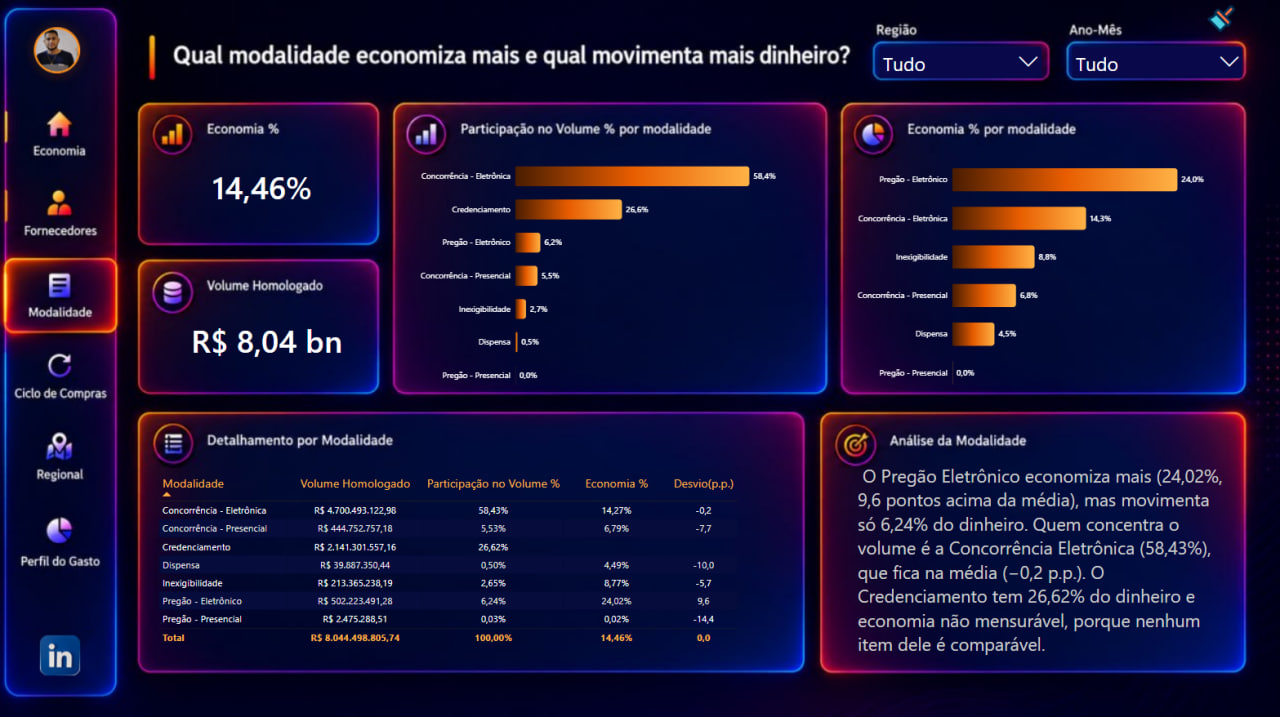

What the dashboard file says about the page in this screenshot:
{"tool":"powerbi","page":{"name":"Modalidade","canvas":[1920,1080],"ordinal":3},"visuals":[{"type":"cardVisual","fields":{"Data":["Medidas.P1 Economia %"]},"box":[306.3,195.2,260.3,165.1],"z":0},{"type":"textbox","box":[1286.6,692.4,557.9,300.9],"z":1000},{"type":"deneb7E15AEF80B9E4D4F8E12924291ECE89A","title":"Volume Homologado","fields":{"dataset":["dim_modalidade.nome_modalidade","Medidas.P1 Economia %"]},"box":[1261.4,218.1,606,388],"z":2000},{"type":"deneb7E15AEF80B9E4D4F8E12924291ECE89A","title":"Volume Homologado","fields":{"dataset":["dim_modalidade.nome_modalidade","Medidas.P3 Participação no Volume %"]},"box":[609.5,217.5,625.4,388.9],"z":3000},{"type":"cardVisual","fields":{"Data":["Medidas.P1 Volume Homologado"]},"box":[275,436.1,291.7,144.4],"z":4000},{"type":"tableEx","fields":{"Values":["dim_modalidade.nome_modalidade","Medidas.P1 Volume Homologado","Medidas.P3 Participação no Volume %","Medidas.P1 Economia %","Medidas.P3 Deságio vs Média Geral (p.p.)"]},"box":[225.4,692.1,992.1,323.8],"z":5000},{"type":"slicer","fields":{"Values":["Calendario.Ano-Mês"]},"box":[1601.4,65.3,265.3,54.2],"z":6000},{"type":"slicer","title":"região","fields":{"Values":["dim_localidade.regiao"]},"box":[1312.5,65.3,252.8,54.2],"z":7000},{"type":"image","title":"Limpar Filtro modali","box":[1793.1,0,73,55.6],"z":8000},{"type":"shape","title":"linkedin","box":[50,936.1,88.9,79.2],"z":8001},{"type":"shape","title":"1_fornecedores","box":[11.1,272.2,166.7,100],"z":8002},{"type":"shape","title":"1_ciclo","box":[11.1,506.9,166.7,106.9],"z":8003},{"type":"shape","title":"1_regional","box":[11.1,631.9,166.7,98.6],"z":8004},{"type":"shape","title":"1_perfil","box":[11.1,747.2,166.7,106.9],"z":8005},{"type":"shape","title":"1_economia","box":[11.1,151.4,166.7,106.9],"z":8006},{"type":"shape","box":[31.9,31.9,133.3,87.5],"z":8007}]}

Visuals, with their boxes in screenshot pixels (x1, y1, x2, y2), scaled from the page's 1920x1080 canvas onto the 1280x717 screenshot:
cardVisual - Medidas.P1 Economia %: BBox(204, 130, 378, 239)
textbox: BBox(858, 460, 1230, 659)
"Volume Homologado" deneb7E15AEF80B9E4D4F8E12924291ECE89A: BBox(841, 145, 1245, 402)
"Volume Homologado" deneb7E15AEF80B9E4D4F8E12924291ECE89A: BBox(406, 144, 823, 403)
cardVisual - Medidas.P1 Volume Homologado: BBox(183, 290, 378, 385)
tableEx - dim_modalidade.nome_modalidade x Medidas.P1 Volume Homologado: BBox(150, 459, 812, 674)
slicer - Calendario.Ano-Mês: BBox(1068, 43, 1244, 79)
"região" slicer: BBox(875, 43, 1044, 79)
"Limpar Filtro modali" image: BBox(1195, 0, 1244, 37)
"linkedin" shape: BBox(33, 621, 93, 674)
"1_fornecedores" shape: BBox(7, 181, 119, 247)
"1_ciclo" shape: BBox(7, 337, 119, 407)
"1_regional" shape: BBox(7, 420, 119, 485)
"1_perfil" shape: BBox(7, 496, 119, 567)
"1_economia" shape: BBox(7, 101, 119, 171)
shape: BBox(21, 21, 110, 79)
